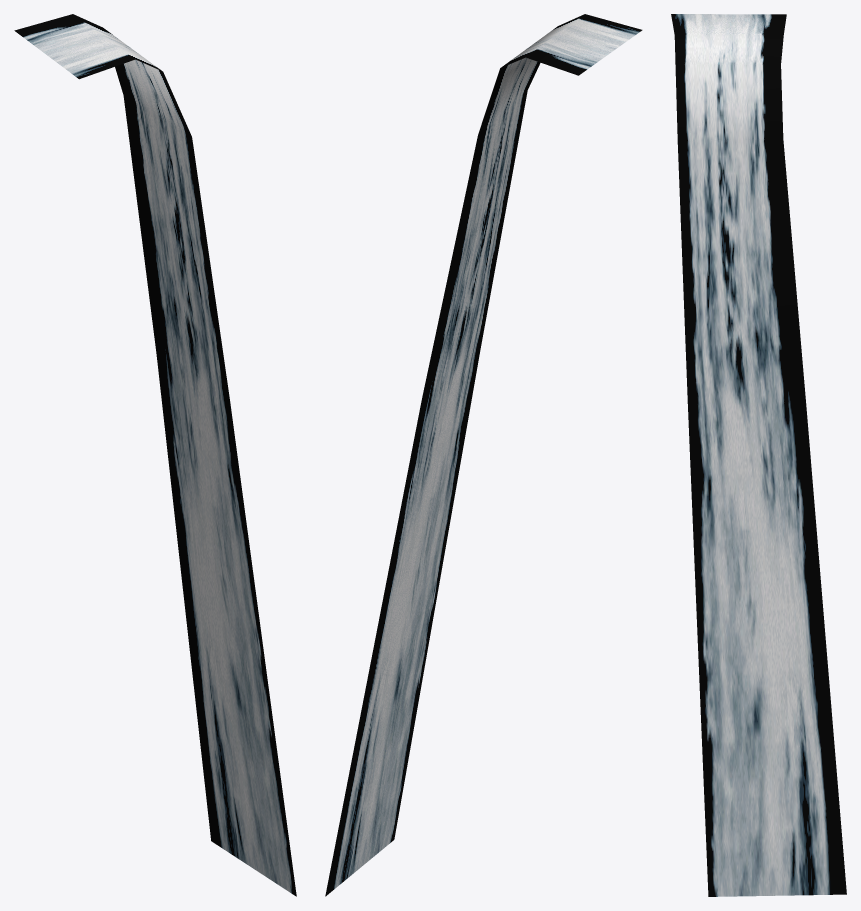
The model's file is 4006_shui_1.FBX.
The picture shows the model from 3 angles, left to right: view 1: azimuth 30°, elevation 25°; view 2: azimuth 150°, elevation 25°; view 3: azimuth 270°, elevation 25°; orthographic projection. The views are drawn at different scales.
Parts seen in each view (by area): view 1: 4006_shui_1; view 2: 4006_shui_1; view 3: 4006_shui_1.
Part boxes in pixels (x1,y1,x2,y2): 4006_shui_1: (14, 14, 296, 896); 4006_shui_1: (325, 14, 642, 896); 4006_shui_1: (671, 14, 846, 896).
Bounding box in the file's own units: 221190 × 792084 × 160906.
